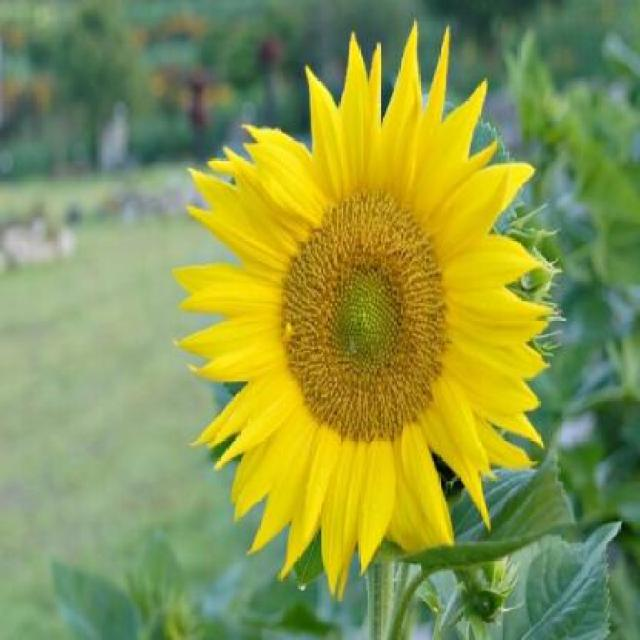sunflower: (166, 16, 563, 604)
